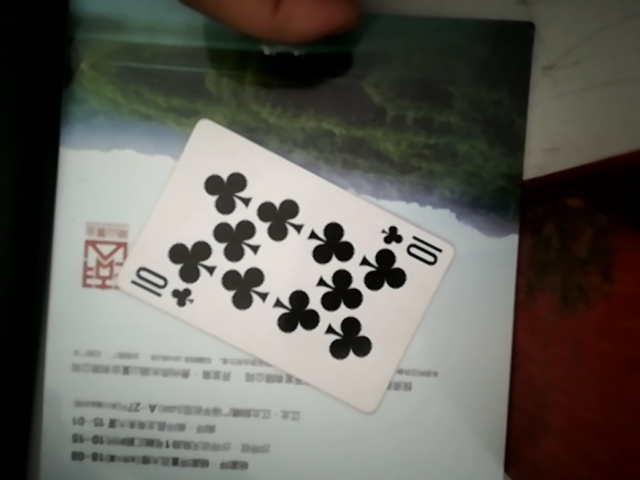mh 10: (98, 116, 455, 403)
